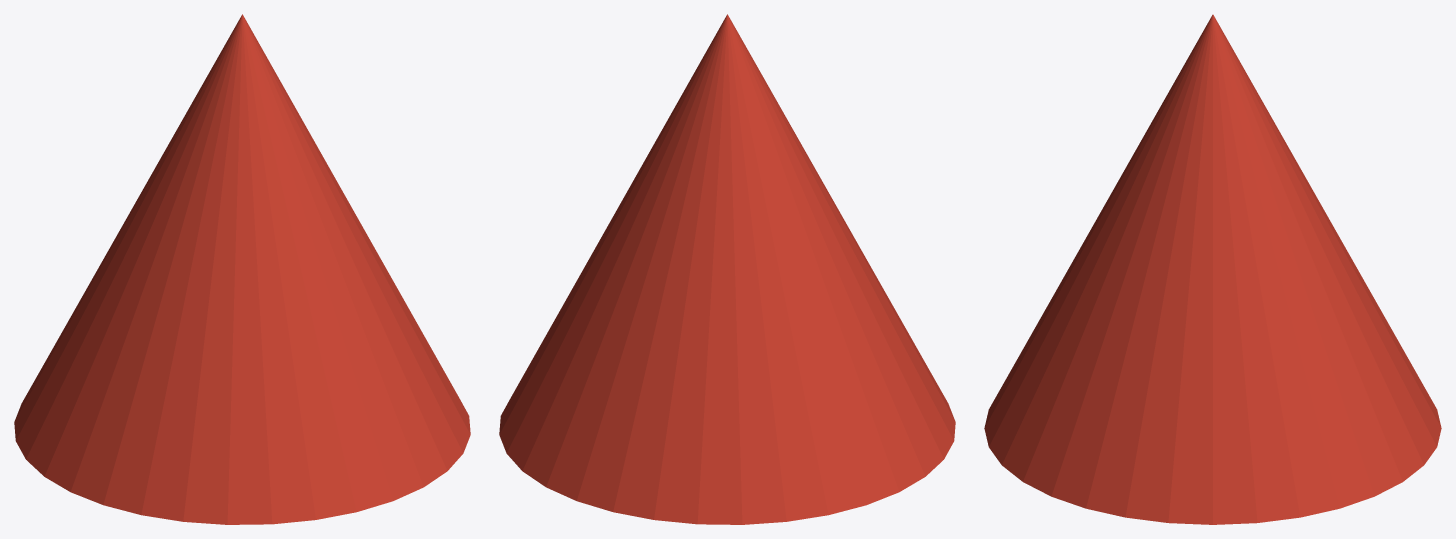
File: Party Hat Red.fbx
3 renders of one model, left to right at view 1: azimuth 30°, elevation 25°; view 2: azimuth 150°, elevation 25°; view 3: azimuth 270°, elevation 25°, orthographic.
Visible parts, largest first — view 1: Cone; view 2: Cone; view 3: Cone.
Part boxes in pixels (x1,y1,x2,y2): Cone: (14, 14, 470, 524); Cone: (499, 14, 955, 524); Cone: (984, 14, 1441, 524).
Bounding box in the file's own units: 200 × 200 × 200.
